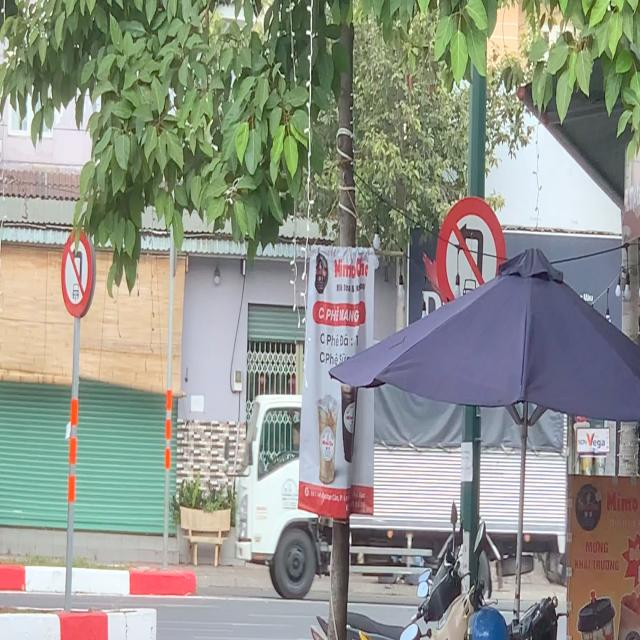Cam re trai: (436, 196, 506, 324), (61, 227, 93, 320)
